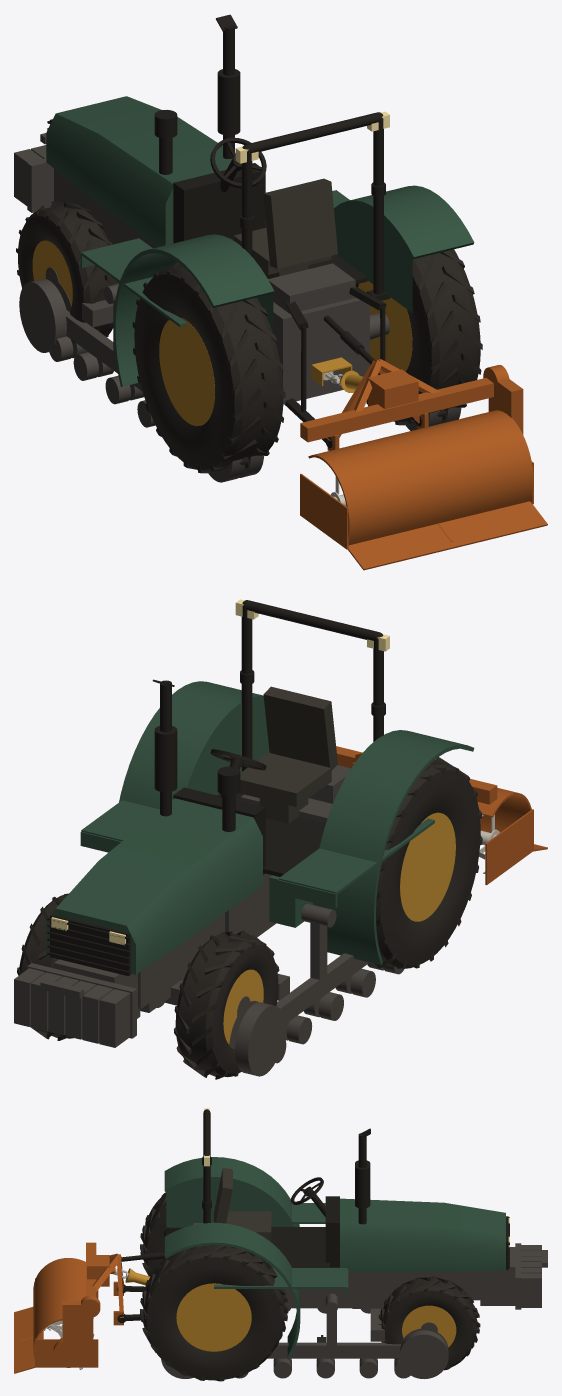
The model's file is trattore.glb.
3 renders of one model, top to bottom at view 1: azimuth 30°, elevation 25°; view 2: azimuth 150°, elevation 25°; view 3: azimuth 270°, elevation 25°, orthographic. The views are drawn at different scales.
Parts seen in each view (by area): view 1: cofano_fresatrice, ruota_post_sx, cofano, ruota_post_dx, telaio_fresatrice, parafango_dx, scatola_cambio, parafango_sx, ruota_ant_sx, sedile, cruscotto, roll_bar (+10 smaller); view 2: cofano, ruota_post_sx, parafango_sx, ruota_ant_sx, parafango_dx, sedile, zavorre_anteriori, roll_bar, parafango_cingolo_sx, telaio, griglia_radiatore, telaio_cingolo_sx (+13 smaller); view 3: ruota_post_dx, cofano, parafango_sx, ruota_ant_dx, telaio_fresatrice, cofano_fresatrice, parafango_dx, telaio, telaio_cingolo_dx, tendicingolo_ant_dx, pedana, zavorre_anteriori (+10 smaller).
Part boxes in pixels (x1,y1,x2,y2): cofano_fresatrice: [308, 410, 547, 570]; ruota_post_sx: [132, 261, 285, 473]; cofano: [46, 96, 232, 247]; ruota_post_dx: [355, 249, 482, 425]; telaio_fresatrice: [300, 359, 533, 549]; parafango_dx: [334, 185, 474, 312]; scatola_cambio: [155, 246, 369, 404]; parafango_sx: [113, 234, 274, 386]; ruota_ant_sx: [16, 201, 118, 343]; sedile: [233, 178, 337, 278]; cruscotto: [173, 155, 265, 243]; roll_bar: [240, 112, 390, 300]; cofano: [46, 798, 262, 974]; ruota_post_sx: [368, 757, 482, 968]; parafango_sx: [313, 730, 474, 965]; ruota_ant_sx: [174, 930, 279, 1079]; parafango_dx: [119, 681, 269, 809]; sedile: [239, 686, 337, 823]; zavorre_anteriori: [14, 963, 136, 1047]; roll_bar: [240, 600, 385, 771]; parafango_cingolo_sx: [277, 818, 434, 907]; telaio: [54, 913, 224, 1018]; griglia_radiatore: [47, 914, 130, 976]; telaio_cingolo_sx: [276, 921, 369, 1024]; ruota_post_dx: [140, 1245, 288, 1381]; cofano: [340, 1198, 505, 1271]; parafango_sx: [164, 1157, 299, 1227]; ruota_ant_dx: [378, 1276, 480, 1370]; telaio_fresatrice: [35, 1242, 123, 1367]; cofano_fresatrice: [14, 1258, 85, 1373]; parafango_dx: [164, 1222, 300, 1356]; telaio: [352, 1247, 515, 1308]; telaio_cingolo_dx: [267, 1308, 401, 1358]; tendicingolo_ant_dx: [399, 1328, 448, 1378]; pedana: [270, 1227, 329, 1267]; zavorre_anteriori: [515, 1243, 547, 1309].
Size of the model in its own units: 1.98 by 2.47 by 5.21.
